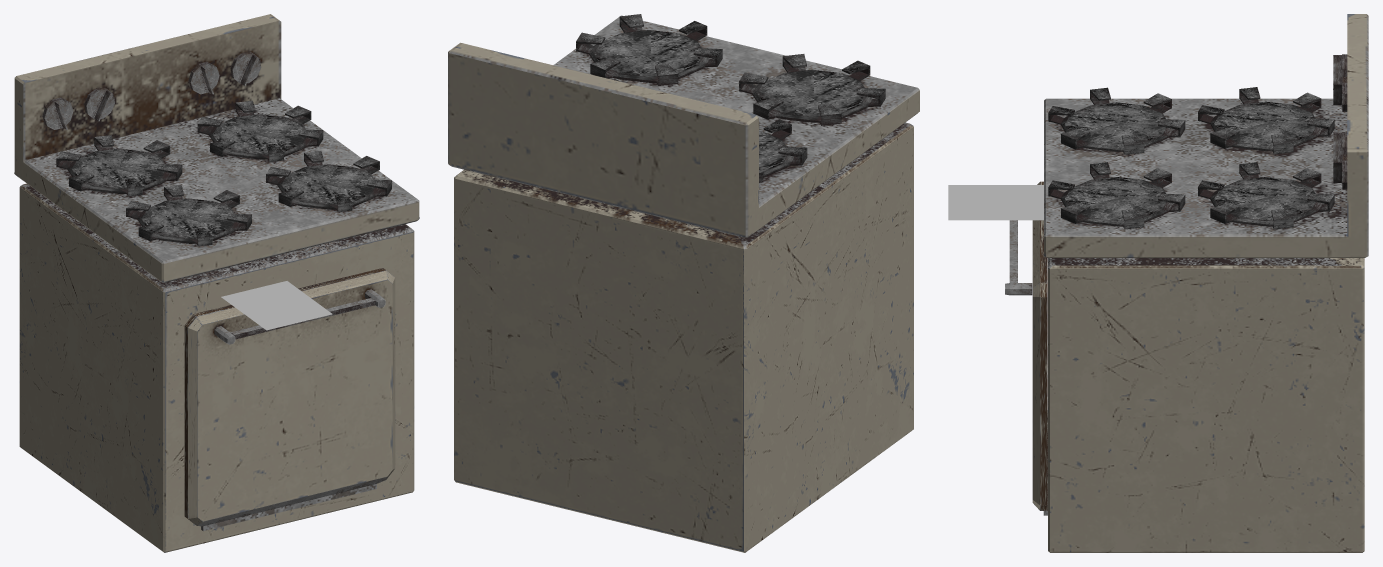
The model's file is cooktop.fbx.
3 renders of one model, left to right at view 1: azimuth 30°, elevation 25°; view 2: azimuth 150°, elevation 25°; view 3: azimuth 270°, elevation 25°, orthographic. The views are drawn at different scales.
Visible parts, largest first — view 1: cooktop_base, ovendoor, cooktop2, cooktop3, cooktop1, cooktop, cloth, ovenhandle, twistswitch1, twistswitch3, twistswitch2, twistswitch; view 2: cooktop_base, cooktop, cooktop1, cooktop3; view 3: cooktop_base, cooktop3, cooktop, cooktop2, cooktop1, ovendoor, cloth, ovenhandle.
Part boxes in pixels (x1=…): cooktop_base: x1=14, y1=14, x2=419, y2=552; ovendoor: x1=184, y1=268, x2=395, y2=531; cooktop2: x1=197, y1=100, x2=323, y2=161; cooktop3: x1=56, y1=135, x2=182, y2=196; cooktop1: x1=266, y1=151, x2=391, y2=212; cooktop: x1=126, y1=185, x2=251, y2=246; cloth: x1=221, y1=281, x2=332, y2=330; ovenhandle: x1=214, y1=289, x2=385, y2=344; twistswitch1: x1=42, y1=97, x2=73, y2=130; twistswitch3: x1=188, y1=62, x2=219, y2=94; twistswitch2: x1=230, y1=52, x2=261, y2=85; twistswitch: x1=84, y1=87, x2=114, y2=121; cooktop_base: x1=448, y1=15, x2=919, y2=552; cooktop: x1=739, y1=54, x2=885, y2=125; cooktop1: x1=576, y1=14, x2=722, y2=85; cooktop3: x1=759, y1=119, x2=807, y2=182; cooktop_base: x1=1044, y1=14, x2=1368, y2=552; cooktop3: x1=1198, y1=87, x2=1334, y2=154; cooktop: x1=1048, y1=87, x2=1185, y2=154; cooktop2: x1=1198, y1=162, x2=1334, y2=229; cooktop1: x1=1048, y1=162, x2=1185, y2=229; ovendoor: x1=1032, y1=181, x2=1047, y2=515; cloth: x1=948, y1=185, x2=1043, y2=220; ovenhandle: x1=1005, y1=220, x2=1032, y2=295.
Bounding box in the file's own units: 10.63 × 14.63 × 13.76.
2 materials, 1 textured.
